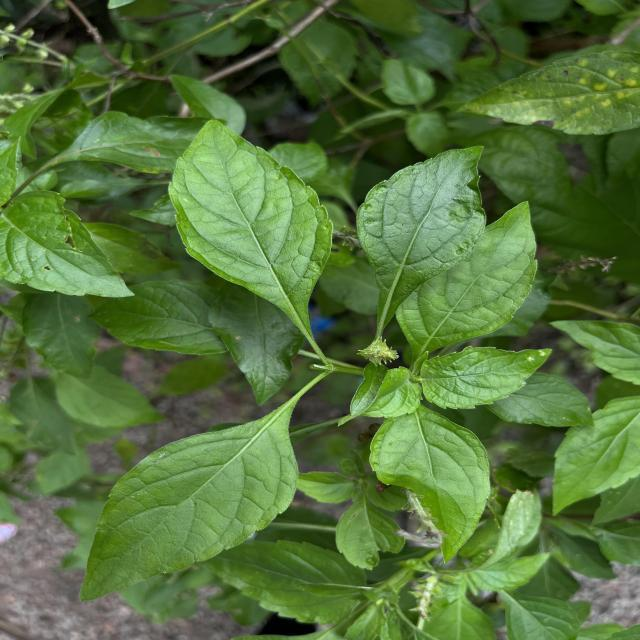Ocimum gratissimum: (74, 368, 302, 612), (166, 112, 337, 363), (351, 139, 488, 333), (394, 194, 542, 360), (364, 403, 494, 568), (0, 186, 137, 303), (418, 335, 557, 413)
